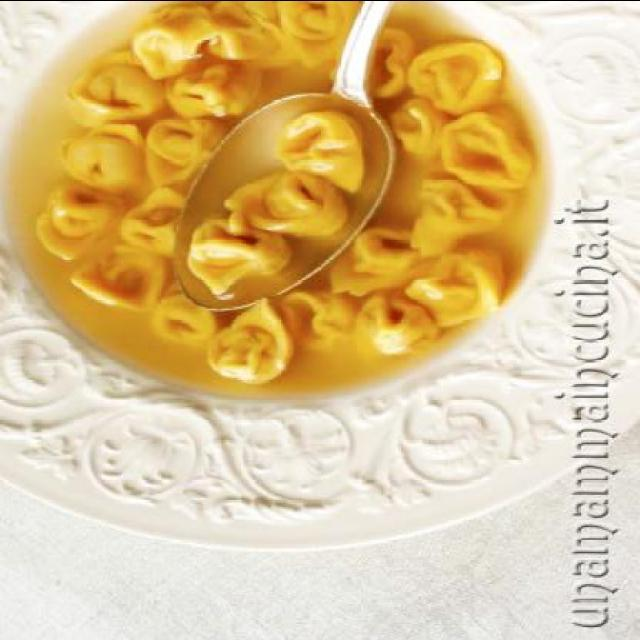Tortellini in broth: (49, 18, 514, 384)
